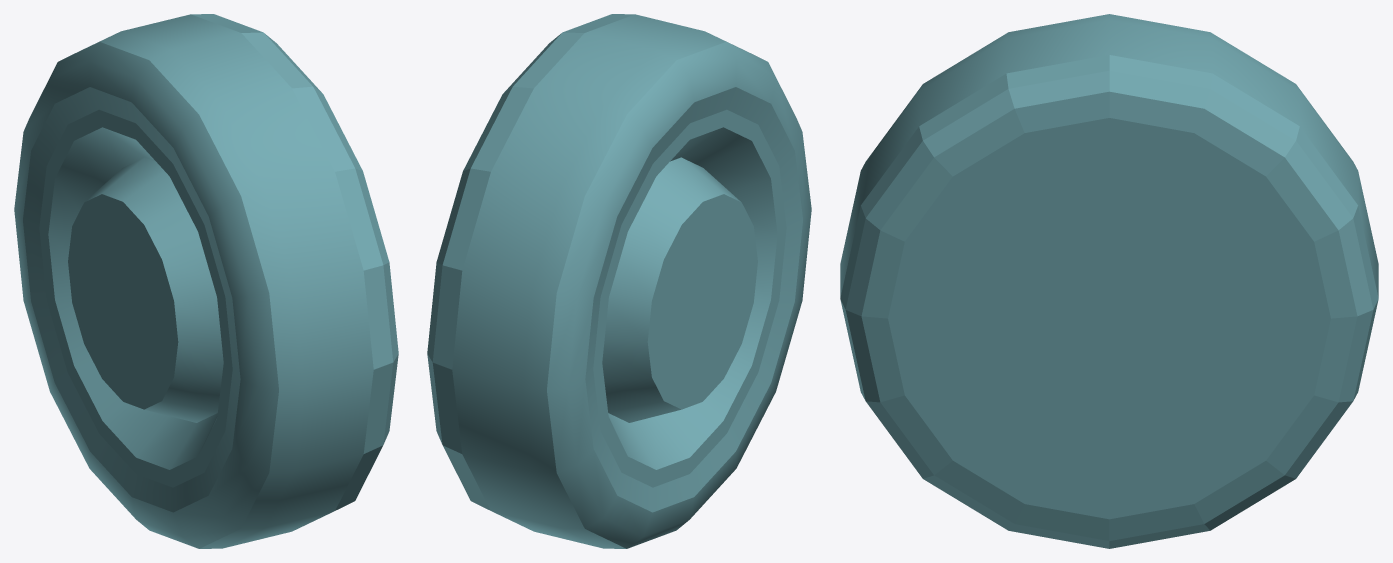
File: Wheel.FBX
3 views of the same model, side by side, from view 1: azimuth 30°, elevation 25°; view 2: azimuth 150°, elevation 25°; view 3: azimuth 270°, elevation 25° (orthographic).
Parts seen in each view (by area): view 1: m_Wheel_RF; view 2: m_Wheel_RF; view 3: m_Wheel_RF.
Boxes of the visible parts, x1,y1,x2,y2 form: m_Wheel_RF: (14, 14, 398, 548); m_Wheel_RF: (427, 14, 811, 548); m_Wheel_RF: (840, 14, 1378, 548).
Bounding box in the file's own units: 13.05 × 37.81 × 37.81.
